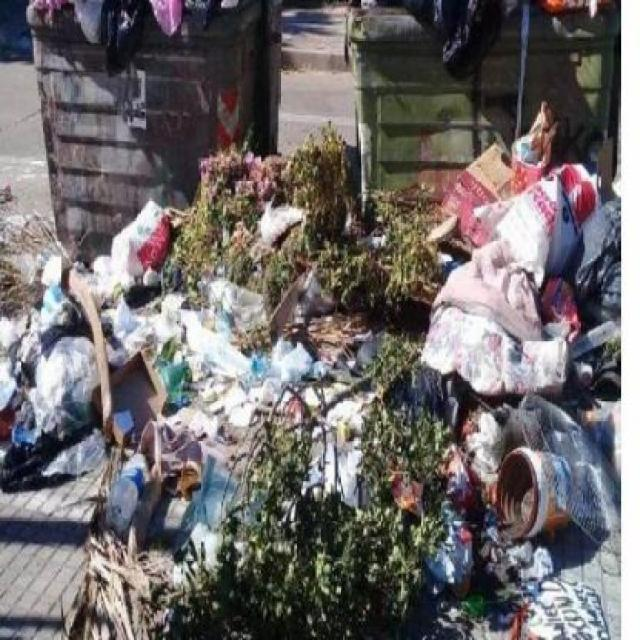garbage: (89, 197, 623, 640), (2, 199, 90, 625), (395, 0, 612, 112), (40, 3, 242, 72)
